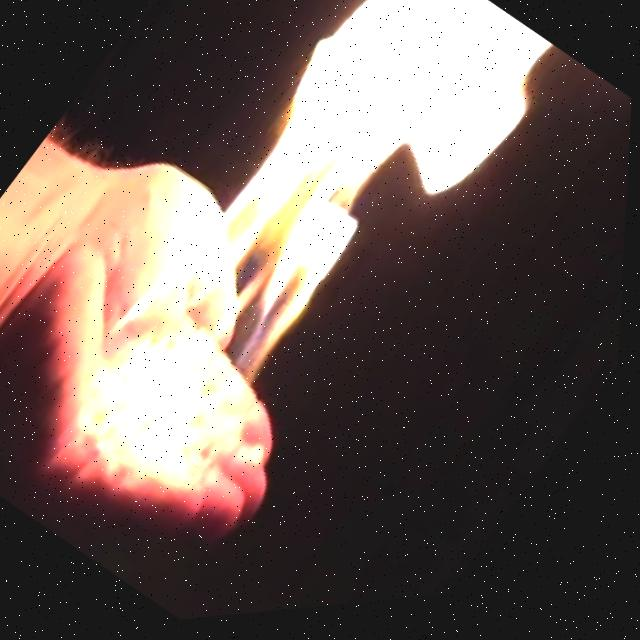Fire: (46, 0, 582, 534)
